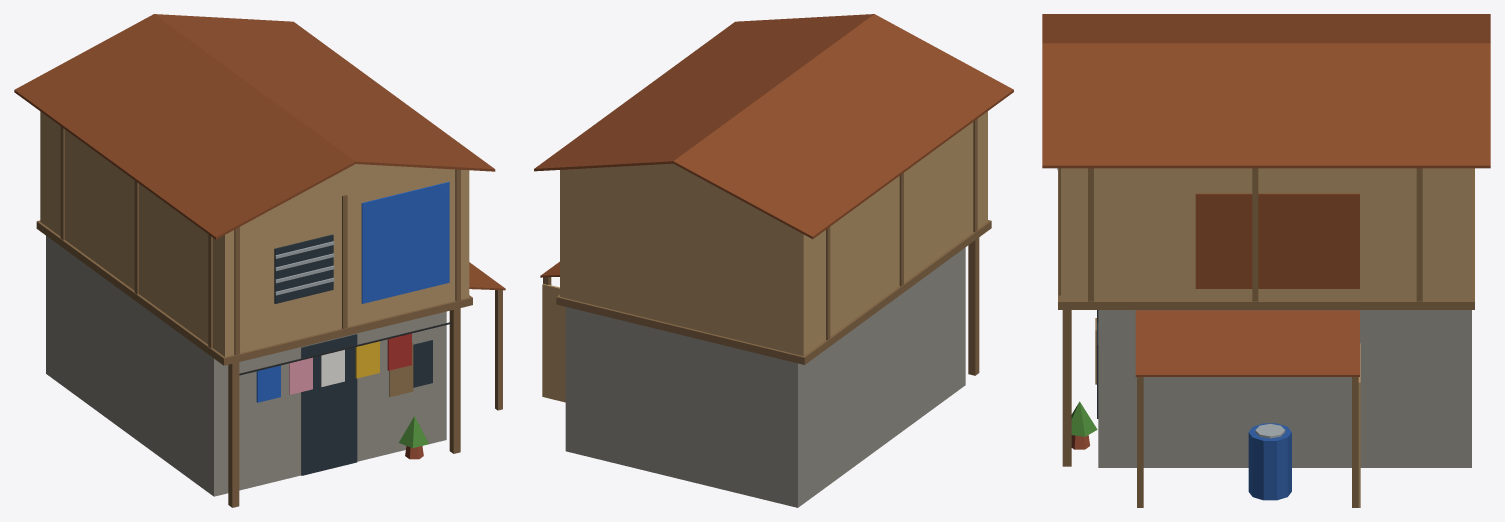
Rendered from BAY_I_Shanty2F_E.glb.
3 views of the same model, side by side, from view 1: azimuth 30°, elevation 25°; view 2: azimuth 150°, elevation 25°; view 3: azimuth 270°, elevation 25° (orthographic). The views are drawn at different scales.
Parts seen in each view (by area): view 1: BAY_I_Shanty2F_E; view 2: BAY_I_Shanty2F_E; view 3: BAY_I_Shanty2F_E.
Boxes of the visible parts, x1,y1,x2,y2 form: BAY_I_Shanty2F_E: [14, 14, 505, 507]; BAY_I_Shanty2F_E: [534, 14, 1013, 507]; BAY_I_Shanty2F_E: [1042, 14, 1490, 507].
Bounding box in the file's own units: 5.7 × 5.34 × 6.
Materials: 1 (1 with a texture image).
